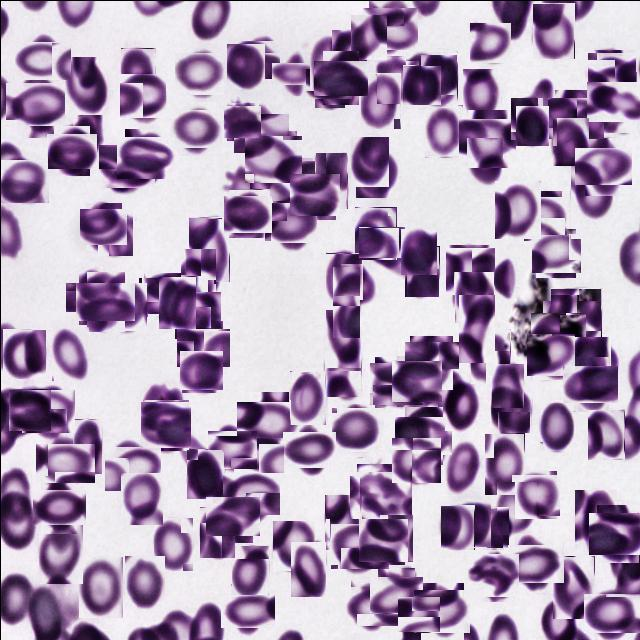red blood cell: (352, 466, 408, 522), (10, 76, 66, 131), (405, 50, 457, 107), (574, 489, 616, 556), (550, 287, 601, 342), (246, 133, 299, 185), (241, 396, 293, 448), (333, 519, 385, 571), (78, 556, 122, 617), (494, 180, 540, 238), (188, 216, 229, 281), (552, 555, 594, 618), (38, 524, 82, 583), (64, 56, 108, 114), (106, 442, 157, 492), (120, 132, 170, 183), (508, 538, 558, 588), (102, 140, 152, 190), (550, 92, 600, 142), (416, 586, 466, 636), (226, 468, 276, 518), (80, 276, 130, 326), (484, 432, 524, 494), (23, 386, 72, 436), (40, 438, 89, 488), (591, 76, 640, 126), (592, 507, 640, 558), (458, 294, 494, 362), (365, 3, 414, 52), (462, 114, 512, 162), (570, 336, 610, 395), (532, 2, 574, 58), (570, 163, 612, 219), (141, 400, 189, 449), (333, 406, 381, 454), (399, 411, 447, 459), (406, 338, 454, 386), (587, 588, 635, 636), (468, 551, 516, 599), (18, 37, 66, 84), (446, 245, 494, 292), (372, 358, 419, 406), (237, 109, 284, 157), (579, 142, 626, 190), (168, 286, 216, 333), (360, 72, 400, 128), (354, 206, 396, 259), (0, 157, 47, 204), (346, 582, 394, 628), (208, 492, 256, 538), (290, 170, 336, 218), (470, 328, 510, 383), (2, 328, 46, 378), (120, 472, 162, 524), (267, 199, 313, 246), (392, 436, 438, 483), (359, 516, 405, 563), (152, 516, 192, 570), (124, 555, 164, 609), (180, 247, 216, 307), (324, 493, 362, 549), (496, 481, 536, 534), (176, 50, 222, 96), (173, 106, 219, 152), (588, 50, 634, 96), (180, 324, 226, 370), (528, 332, 574, 378), (272, 520, 314, 570), (51, 325, 89, 380), (324, 341, 362, 396), (286, 426, 331, 472), (566, 361, 612, 406), (462, 68, 500, 122), (288, 370, 326, 424), (444, 439, 482, 493), (452, 271, 492, 322), (325, 309, 360, 367), (373, 571, 418, 616), (394, 358, 439, 403), (120, 73, 164, 119), (318, 54, 362, 100), (104, 282, 146, 330), (332, 266, 360, 338), (424, 104, 462, 157), (533, 230, 577, 275), (512, 472, 557, 516), (355, 151, 398, 197), (231, 544, 269, 596), (36, 484, 80, 528), (520, 193, 564, 237), (270, 158, 314, 202), (140, 274, 184, 318), (210, 428, 254, 472), (225, 588, 269, 632), (536, 306, 580, 350), (490, 385, 531, 432), (290, 541, 325, 596), (158, 276, 195, 328), (186, 448, 224, 498), (350, 136, 388, 186), (237, 432, 280, 476), (331, 29, 366, 83), (587, 408, 624, 459), (72, 275, 115, 318), (49, 129, 92, 172), (199, 506, 235, 557), (314, 151, 346, 208), (552, 116, 589, 165), (376, 60, 418, 103), (404, 245, 439, 296), (309, 34, 342, 88), (325, 252, 362, 300), (236, 38, 278, 80), (226, 192, 268, 234), (8, 388, 50, 430), (180, 349, 222, 391), (82, 205, 124, 247), (226, 43, 264, 89), (466, 137, 502, 185), (120, 47, 155, 96), (539, 401, 574, 450), (426, 368, 464, 413), (452, 501, 490, 546), (444, 380, 478, 430), (97, 210, 133, 256), (400, 228, 436, 274), (72, 418, 102, 473), (470, 22, 510, 63), (379, 513, 413, 561), (350, 14, 386, 59), (469, 506, 508, 547), (439, 504, 474, 549), (402, 64, 441, 104), (362, 222, 401, 261), (309, 64, 348, 103), (398, 594, 438, 632), (510, 96, 543, 139), (491, 363, 523, 407), (515, 105, 548, 145), (340, 263, 373, 301), (224, 104, 260, 138), (276, 58, 309, 90)
